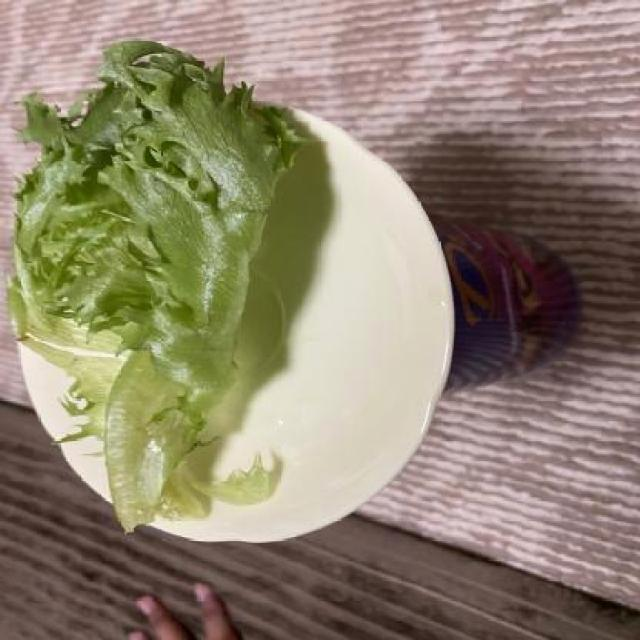Lettuce: (7, 31, 304, 544)
